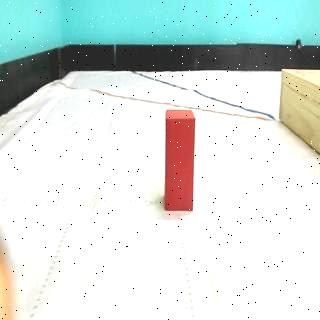redbox: (164, 106, 196, 214)
